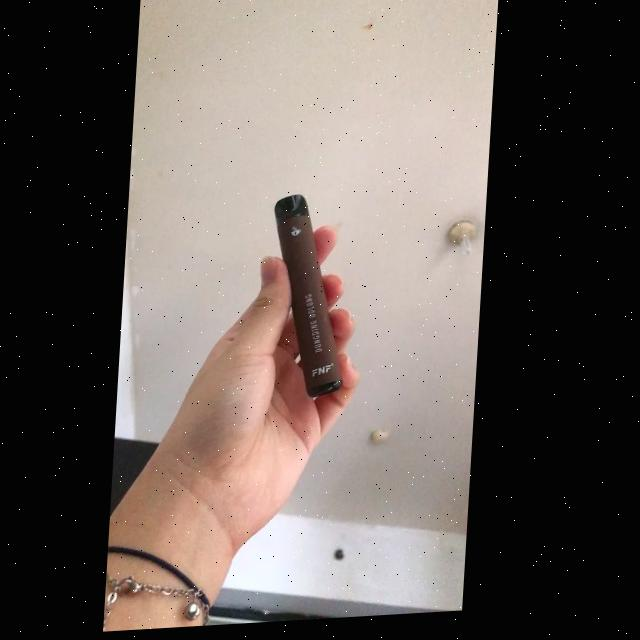vape: (266, 195, 357, 404)
